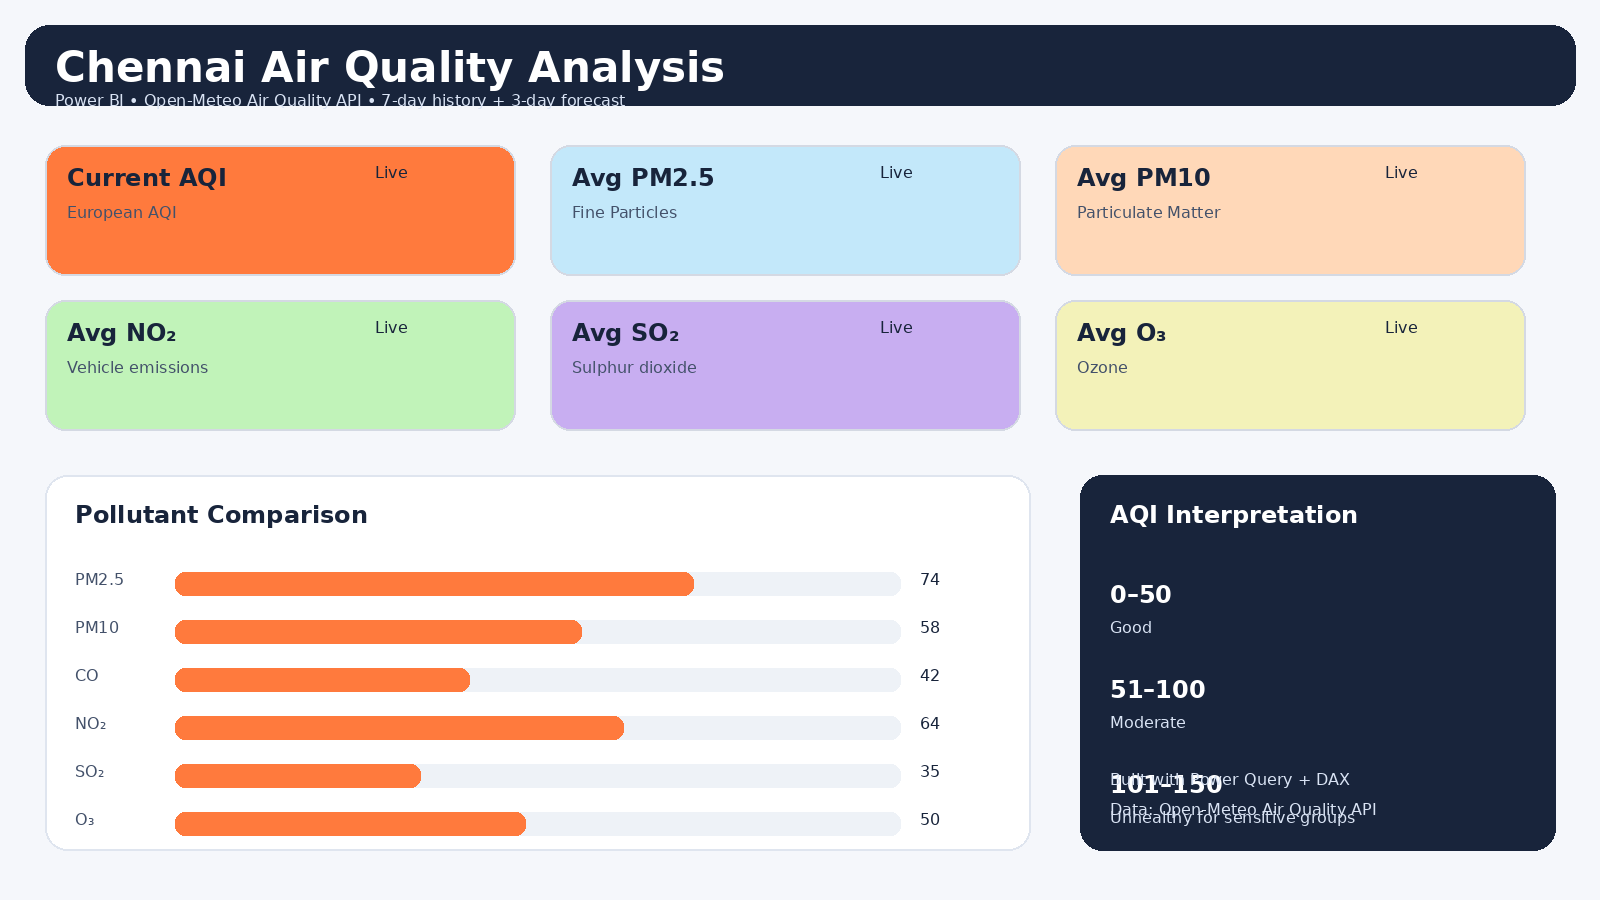

What the dashboard file says about the page in this screenshot:
{"tool":"powerbi","page":{"name":"Page 1","canvas":[1600,1000],"ordinal":0},"visuals":[{"type":"group","id":"g1","title":"Group 2","box":[0,0,594.8,450.7],"z":0},{"type":"shape","box":[0,0,594.8,450.7],"z":0,"group":"g1"},{"type":"shape","box":[566.4,6.7,680.3,450.7],"z":0,"group":"g2"},{"type":"cardVisual","fields":{"Data":["Query1.Average PM2.5"]},"box":[39.5,324.6,147.9,91.4],"z":0,"group":"g3"},{"type":"image","box":[1233.3,6.7,367,412.2],"z":1000},{"type":"cardVisual","fields":{"Data":["Query1.Average PM10"]},"box":[209,324.6,147.9,91.4],"z":1000,"group":"g3"},{"type":"cardVisual","fields":{"Data":["Query1.Current AQI"]},"box":[275.8,83.4,165.9,182.6],"z":2000,"group":"g4"},{"type":"cardVisual","fields":{"Data":["Query1.Average O3"]},"box":[378.5,324.6,147.9,91.4],"z":2000,"group":"g3"},{"type":"image","box":[1233.3,388.7,367,611.6],"z":2000},{"type":"group","id":"g2","title":"Group 4","box":[566.4,6.7,680.3,450.7],"z":3000},{"type":"textbox","box":[61,32.7,191.1,93],"z":3000,"group":"g4"},{"type":"shape","box":[514.1,116.1,27.7,25.7],"z":3000,"group":"g3"},{"type":"image","box":[33.3,64.8,192.6,216.5],"z":4000,"group":"g4"},{"type":"cardVisual","fields":{"Data":["Query1.Average PM2.5"]},"box":[596.2,95.2,214.5,160.9],"z":4000,"group":"g2"},{"type":"shape","box":[514.1,153,27.7,25.7],"z":4000,"group":"g3"},{"type":"areaChart","title":"Daily AQI Trend","fields":{"Category":["Query1.DateTime.Variation.Date Hierarchy.Day"],"Y":["Max(Query1.European AQI)"]},"box":[33.5,450.7,713.8,348.5],"z":4000},{"type":"textbox","box":[350.2,40.2,207.8,92.2],"z":5000,"group":"g1"},{"type":"shape","box":[514.1,188.3,27.7,25.7],"z":5000,"group":"g3"},{"type":"cardVisual","fields":{"Data":["Query1.Avg SO2"]},"box":[596.2,251.3,214.5,160.9],"z":5000,"group":"g2"},{"type":"textbox","box":[563,455.8,179.3,43.6],"z":5000},{"type":"shape","box":[514.1,225.2,27.7,25.7],"z":6000,"group":"g3"},{"type":"textbox","box":[33.3,242.8,308.2,93],"z":6000,"group":"g4"},{"type":"cardVisual","fields":{"Data":["Query1.Average O3"]},"box":[800.7,254.7,214.5,160.9],"z":6000,"group":"g2"},{"type":"columnChart","title":"Pollutant Levels","fields":{"Category":["Pollutant Analysis.Pollutant"],"Y":["Query1.Pollutant Value"]},"box":[755.7,450.7,470.8,348.5],"z":6000},{"type":"cardVisual","fields":{"Data":["Query1.Avg NO2"]},"box":[1001.7,95.2,214.5,160.9],"z":7000,"group":"g2"},{"type":"shape","box":[514.1,263.7,27.7,25.7],"z":7000,"group":"g3"},{"type":"shape","box":[33.5,807.6,1193,175.9],"z":7000},{"type":"cardVisual","fields":{"Data":["Query1.Avg CO"]},"box":[1001.7,251.3,214.5,160.9],"z":8000,"group":"g2"},{"type":"textbox","box":[68.7,832.8,157.5,130.7],"z":8000},{"type":"textbox","box":[668.6,43.6,179.3,50.3],"z":9000,"group":"g2"},{"type":"textbox","box":[251.3,832.8,162.5,130.7],"z":9000},{"type":"group","id":"g3","title":"Group 1","box":[39.5,116.1,502.4,300],"z":9005,"group":"g4"},{"type":"group","id":"g4","title":"Group 3","box":[33.3,32.7,508.5,383.4],"z":9007,"group":"g1"},{"type":"textbox","box":[1121,41.9,80.4,50.3],"z":10000,"group":"g2"},{"type":"textbox","box":[444,832.8,169.2,130.7],"z":10000},{"type":"image","box":[594.9,33.5,88.8,70.4],"z":11000,"group":"g2"},{"type":"textbox","box":[643.4,832.8,172.6,130.7],"z":11000},{"type":"cardVisual","fields":{"Data":["Query1.Average PM10"]},"box":[794.3,97.2,226.2,157.5],"z":12000,"group":"g2"},{"type":"textbox","box":[844.5,831.1,167.6,130.7],"z":12000},{"type":"textbox","box":[1032.2,829.4,167.6,130.7],"z":12001},{"type":"image","box":[613.3,129,90.5,83.8],"z":13000,"group":"g2"},{"type":"image","box":[817.7,130.7,88.8,82.1],"z":14000,"group":"g2"},{"type":"image","box":[1030.5,130.7,80.4,82.1],"z":15000,"group":"g2"},{"type":"image","box":[618.3,281.5,90.5,87.1],"z":16000,"group":"g2"},{"type":"image","box":[72.7,859.6,78.9,75.8],"z":16000},{"type":"image","box":[255.1,859.6,64.9,78.9],"z":16001},{"type":"image","box":[445.3,859.6,68,78.9],"z":16002},{"type":"image","box":[647.8,855,71.1,81.9],"z":16003},{"type":"image","box":[844.2,855,71.1,78.9],"z":16004},{"type":"image","box":[1035.9,856.5,72.7,77.3],"z":16005},{"type":"image","box":[821.1,281.5,90.5,87.1],"z":17000,"group":"g2"},{"type":"image","box":[1020.5,281.5,90.5,87.1],"z":18000,"group":"g2"},{"type":"textbox","box":[653.5,209.4,117.3,41.9],"z":19000,"group":"g2"},{"type":"textbox","box":[849.6,207.8,152.5,41.9],"z":20000,"group":"g2"},{"type":"textbox","box":[1023.8,209.4,186,41.9],"z":21000,"group":"g2"},{"type":"textbox","box":[618.3,367,175.9,41.9],"z":22000,"group":"g2"},{"type":"textbox","box":[819.4,368.6,182.6,41.9],"z":23000,"group":"g2"},{"type":"textbox","box":[1018.8,367,207.8,45.2],"z":24000,"group":"g2"}]}

Visuals, with their boxes on the page's 1600x1000 design canvas (x1, y1, x2, y2). These are canvas units, not pixel positions in the 1600x900 screenshot, which may show the page scaled, cropped or inside an application window:
"Group 2" group: x1=0, y1=0, x2=595, y2=451
shape: x1=0, y1=0, x2=595, y2=451
shape: x1=566, y1=7, x2=1247, y2=457
cardVisual - Query1.Average PM2.5: x1=40, y1=325, x2=187, y2=416
image: x1=1233, y1=7, x2=1600, y2=419
cardVisual - Query1.Average PM10: x1=209, y1=325, x2=357, y2=416
cardVisual - Query1.Current AQI: x1=276, y1=83, x2=442, y2=266
cardVisual - Query1.Average O3: x1=378, y1=325, x2=526, y2=416
image: x1=1233, y1=389, x2=1600, y2=1000
"Group 4" group: x1=566, y1=7, x2=1247, y2=457
textbox: x1=61, y1=33, x2=252, y2=126
shape: x1=514, y1=116, x2=542, y2=142
image: x1=33, y1=65, x2=226, y2=281
cardVisual - Query1.Average PM2.5: x1=596, y1=95, x2=811, y2=256
shape: x1=514, y1=153, x2=542, y2=179
"Daily AQI Trend" areaChart: x1=34, y1=451, x2=747, y2=799
textbox: x1=350, y1=40, x2=558, y2=132
shape: x1=514, y1=188, x2=542, y2=214
cardVisual - Query1.Avg SO2: x1=596, y1=251, x2=811, y2=412
textbox: x1=563, y1=456, x2=742, y2=499
shape: x1=514, y1=225, x2=542, y2=251
textbox: x1=33, y1=243, x2=342, y2=336
cardVisual - Query1.Average O3: x1=801, y1=255, x2=1015, y2=416
"Pollutant Levels" columnChart: x1=756, y1=451, x2=1226, y2=799
cardVisual - Query1.Avg NO2: x1=1002, y1=95, x2=1216, y2=256
shape: x1=514, y1=264, x2=542, y2=289
shape: x1=34, y1=808, x2=1226, y2=984
cardVisual - Query1.Avg CO: x1=1002, y1=251, x2=1216, y2=412
textbox: x1=69, y1=833, x2=226, y2=964
textbox: x1=669, y1=44, x2=848, y2=94
textbox: x1=251, y1=833, x2=414, y2=964
"Group 1" group: x1=40, y1=116, x2=542, y2=416
"Group 3" group: x1=33, y1=33, x2=542, y2=416
textbox: x1=1121, y1=42, x2=1201, y2=92
textbox: x1=444, y1=833, x2=613, y2=964
image: x1=595, y1=34, x2=684, y2=104
textbox: x1=643, y1=833, x2=816, y2=964
cardVisual - Query1.Average PM10: x1=794, y1=97, x2=1020, y2=255
textbox: x1=844, y1=831, x2=1012, y2=962
textbox: x1=1032, y1=829, x2=1200, y2=960
image: x1=613, y1=129, x2=704, y2=213
image: x1=818, y1=131, x2=906, y2=213
image: x1=1030, y1=131, x2=1111, y2=213
image: x1=618, y1=282, x2=709, y2=369
image: x1=73, y1=860, x2=152, y2=935
image: x1=255, y1=860, x2=320, y2=938
image: x1=445, y1=860, x2=513, y2=938
image: x1=648, y1=855, x2=719, y2=937
image: x1=844, y1=855, x2=915, y2=934
image: x1=1036, y1=856, x2=1109, y2=934
image: x1=821, y1=282, x2=912, y2=369
image: x1=1020, y1=282, x2=1111, y2=369
textbox: x1=654, y1=209, x2=771, y2=251
textbox: x1=850, y1=208, x2=1002, y2=250
textbox: x1=1024, y1=209, x2=1210, y2=251
textbox: x1=618, y1=367, x2=794, y2=409
textbox: x1=819, y1=369, x2=1002, y2=410
textbox: x1=1019, y1=367, x2=1227, y2=412
